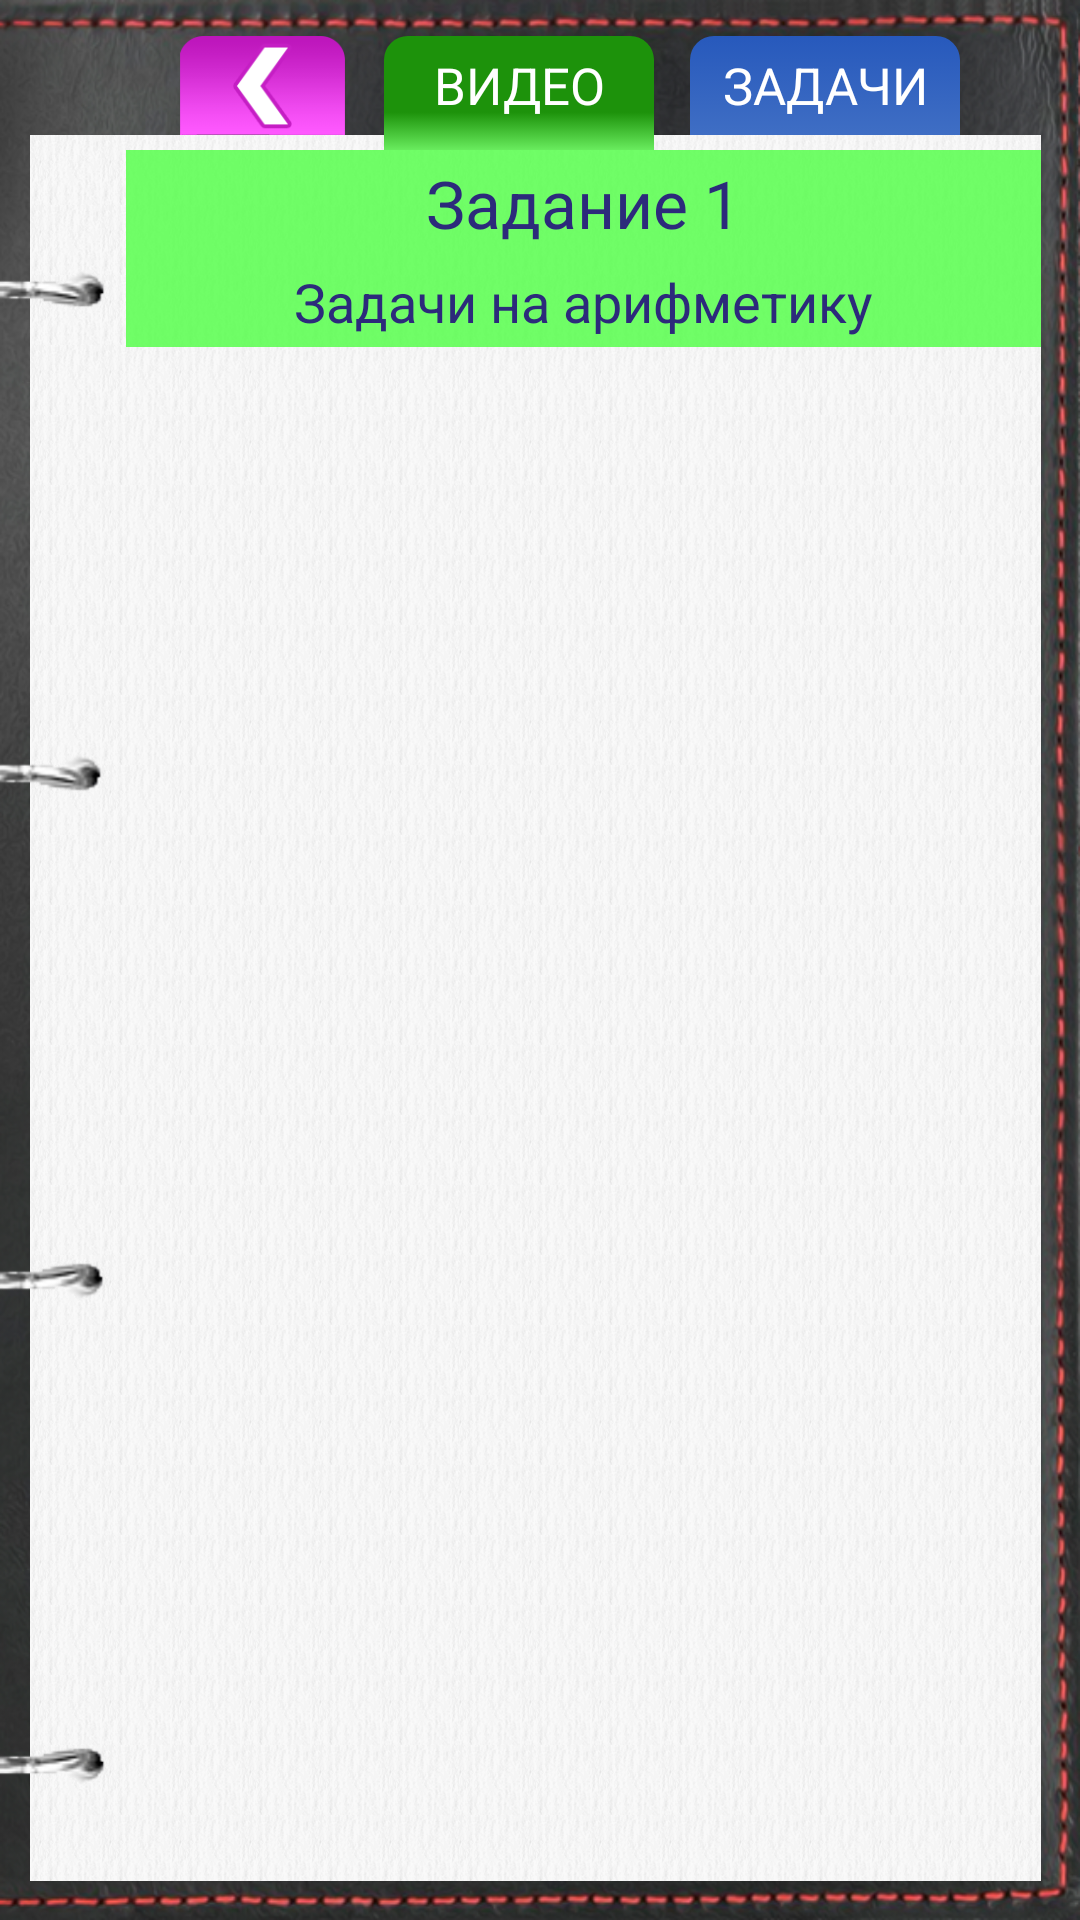

Where to tap for icons on this 1080px×1920px app screen, as (x=x, y=y):
left: (x=262, y=85)
